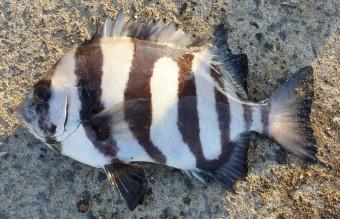fish: (13, 15, 318, 211)
